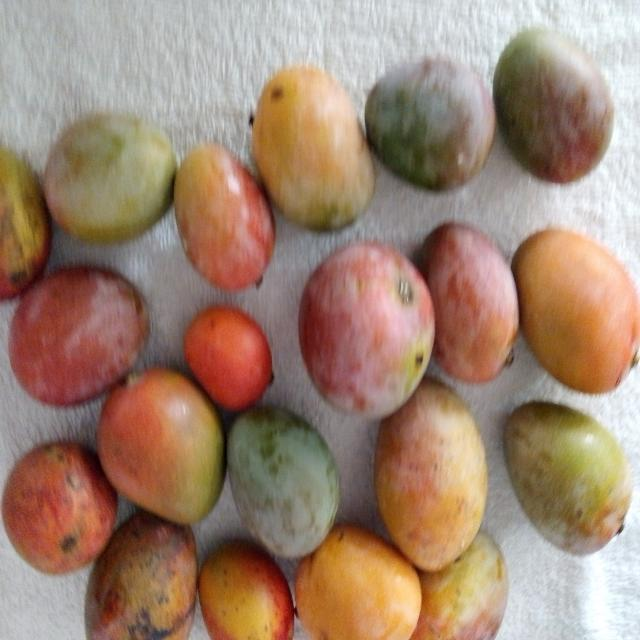mango: (296, 240, 434, 414), (249, 64, 382, 236), (96, 369, 231, 527), (502, 398, 634, 558), (512, 228, 639, 391), (220, 403, 342, 559), (176, 139, 279, 297), (294, 521, 421, 640)
